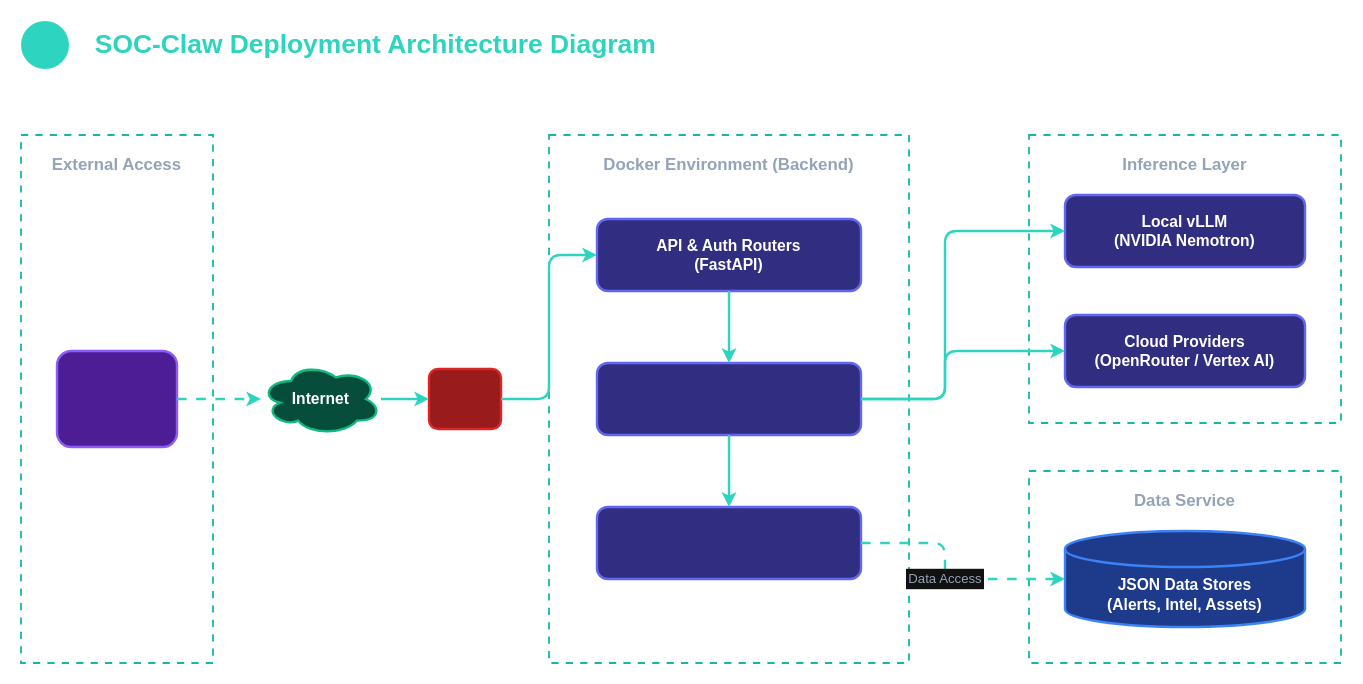
Image size: 1363x684. Some labels were removed from this diagram. Each missing label, with the box of its shape:
Agent Orchestrator (Triage → Verifier → Response): (595, 361, 862, 436)
Firewall: (427, 367, 502, 430)
PC End (Analyst UI): (55, 349, 178, 448)
Tools Registry (IP, Asset, MITRE): (595, 505, 862, 580)
